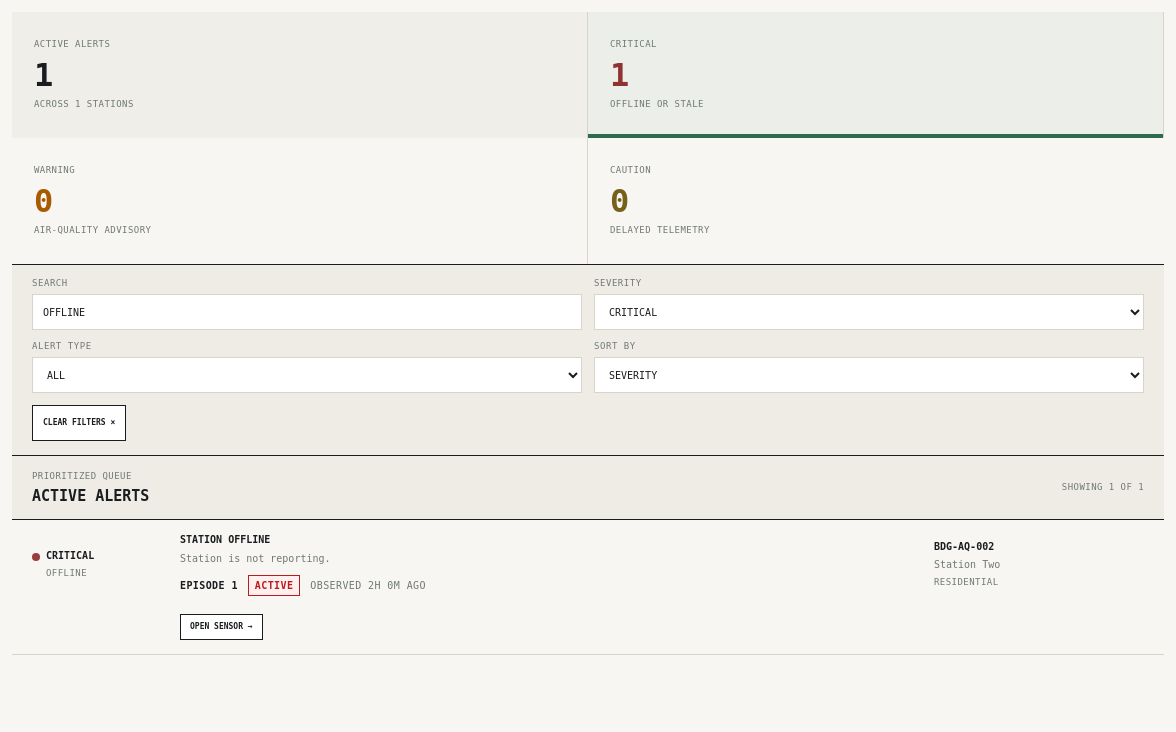
Test: Alerts search debounce › clears the input and URL filters
Check: the field with placeholder "Station, type, severity, profile" holds "offline", box [32,294,582,330]
Click the button "Clear filters ×": point(79, 423) [32,405,126,441]
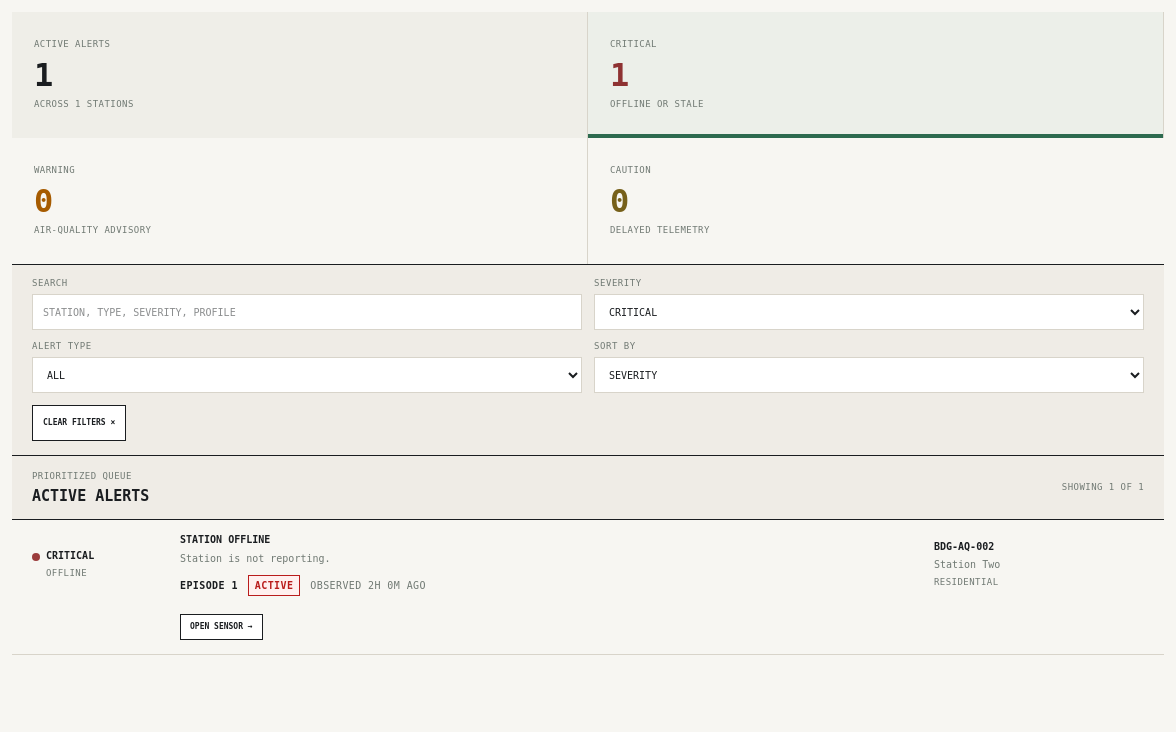
Check: the field with placeholder "Station, type, severity, profile" is empty, box [32,294,582,330]
